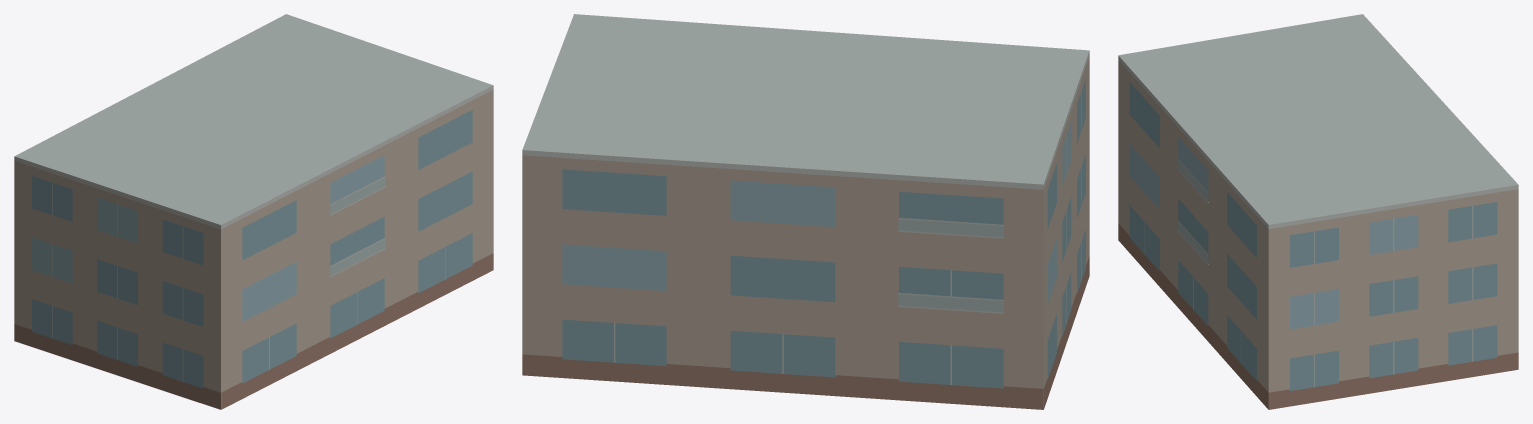
Rendered from survey-upis-32861555.glb.
3 renders of one model, left to right at view 1: azimuth 30°, elevation 25°; view 2: azimuth 150°, elevation 25°; view 3: azimuth 270°, elevation 25°, orthographic. The views are drawn at different scales.
Visible parts, largest first — view 1: survey-upis-32861555.tmp; view 2: survey-upis-32861555.tmp; view 3: survey-upis-32861555.tmp.
Part boxes in pixels (x1,y1,x2,y2): survey-upis-32861555.tmp: (14, 14, 493, 409); survey-upis-32861555.tmp: (522, 14, 1089, 409); survey-upis-32861555.tmp: (1118, 14, 1518, 409).
Bounding box in the file's own units: 25.84 × 10.55 × 20.72.
